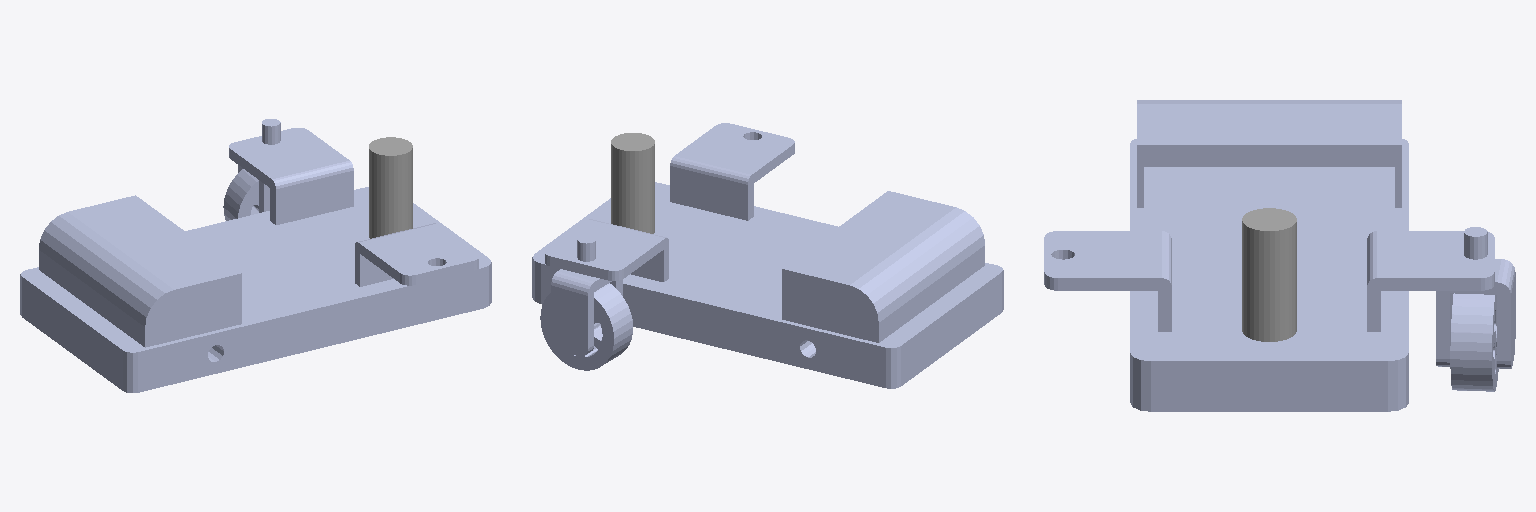
robot.urdf — Robot_Assembly:
<?xml version="1.0" encoding="utf-8"?>
<!-- This URDF was automatically created by SolidWorks to URDF Exporter! Originally created by [author] ([email redacted]) 
     Commit Version: 1.6.0-4-g7f85cfe  Build Version: 1.6.7995.38578
     For more information, please see http://wiki.ros.org/sw_urdf_exporter -->
<robot
  name="Robot_Assembly">
  <link
    name="base_link">
    <inertial>
      <origin
        xyz="-0.0177713241194038 -1.11022302462516E-16 0.120383167888541"
        rpy="0 0 0" />
      <mass
        value="57.7200890207757" />
      <inertia
        ixx="1.2991331467901"
        ixy="-3.51346855822824E-16"
        ixz="0.206009660815117"
        iyy="4.53263349681224"
        iyz="-1.51788304147971E-16"
        izz="5.55276261813866" />
    </inertial>
    <visual>
      <origin
        xyz="0 0 0"
        rpy="0 0 0" />
      <geometry>
        <mesh
          filename="package://Robot_Assembly/meshes/base_link.STL" />
      </geometry>
      <material
        name="">
        <color
          rgba="0.792156862745098 0.819607843137255 0.933333333333333 1" />
      </material>
    </visual>
    <collision>
      <origin
        xyz="0 0 0"
        rpy="0 0 0" />
      <geometry>
        <mesh
          filename="package://Robot_Assembly/meshes/base_link.STL" />
      </geometry>
    </collision>
  </link>
  <link
    name="rear_wheel_left">
    <inertial>
      <origin
        xyz="1.11022302462516E-16 0 -0.0418411207692297"
        rpy="0 0 0" />
      <mass
        value="2.25128553479309" />
      <inertia
        ixx="0.00778450520341826"
        ixy="-2.09752323828134E-18"
        ixz="1.54852475339965E-18"
        iyy="0.00778450520341825"
        iyz="6.92427076095309E-19"
        izz="0.0121750679482056" />
    </inertial>
    <visual>
      <origin
        xyz="0 0 0"
        rpy="0 0 0" />
      <geometry>
        <mesh
          filename="package://Robot_Assembly/meshes/rear_wheel_left.STL" />
      </geometry>
      <material
        name="">
        <color
          rgba="0.792156862745098 0.819607843137255 0.933333333333333 1" />
      </material>
    </visual>
    <collision>
      <origin
        xyz="0 0 0"
        rpy="0 0 0" />
      <geometry>
        <mesh
          filename="package://Robot_Assembly/meshes/rear_wheel_left.STL" />
      </geometry>
    </collision>
  </link>
  <joint
    name="rear_wheel_left_joint"
    type="continuous">
    <origin
      xyz="-0.254 0.33528 0.1016"
      rpy="1.5707963267949 0 3.14159265358979" />
    <parent
      link="base_link" />
    <child
      link="rear_wheel_left" />
    <axis
      xyz="0 0 -1" />
  </joint>
  <link
    name="rear_wheel_right">
    <inertial>
      <origin
        xyz="1.11022302462516E-16 0 -0.0418411207692296"
        rpy="0 0 0" />
      <mass
        value="2.25128553479309" />
      <inertia
        ixx="0.00778450520341824"
        ixy="-2.9356639939507E-18"
        ixz="2.06915499804332E-18"
        iyy="0.00778450520341824"
        iyz="-1.87290346737621E-18"
        izz="0.0121750679482056" />
    </inertial>
    <visual>
      <origin
        xyz="0 0 0"
        rpy="0 0 0" />
      <geometry>
        <mesh
          filename="package://Robot_Assembly/meshes/rear_wheel_right.STL" />
      </geometry>
      <material
        name="">
        <color
          rgba="0.792156862745098 0.819607843137255 0.933333333333333 1" />
      </material>
    </visual>
    <collision>
      <origin
        xyz="0 0 0"
        rpy="0 0 0" />
      <geometry>
        <mesh
          filename="package://Robot_Assembly/meshes/rear_wheel_right.STL" />
      </geometry>
    </collision>
  </link>
  <joint
    name="rear_wheel_right_joint"
    type="continuous">
    <origin
      xyz="-0.254 -0.33528 0.1016"
      rpy="1.5707963267949 0 0" />
    <parent
      link="base_link" />
    <child
      link="rear_wheel_right" />
    <axis
      xyz="0 0 1" />
  </joint>
  <link
    name="front_wheel_left_steering">
    <inertial>
      <origin
        xyz="-2.22044604925031E-16 -2.77555756156289E-17 -0.148810521697732"
        rpy="0 0 0" />
      <mass
        value="1.36260899137696" />
      <inertia
        ixx="0.00637222652336909"
        ixy="0.000170251792034192"
        ixz="-8.01290986783837E-18"
        iyy="0.00843770282289099"
        iyz="-1.46137293291981E-18"
        izz="0.00404982823146119" />
    </inertial>
    <visual>
      <origin
        xyz="0 0 0"
        rpy="0 0 0" />
      <geometry>
        <mesh
          filename="package://Robot_Assembly/meshes/front_wheel_left_steering.STL" />
      </geometry>
      <material
        name="">
        <color
          rgba="0.792156862745098 0.819607843137255 0.933333333333333 1" />
      </material>
    </visual>
    <collision>
      <origin
        xyz="0 0 0"
        rpy="0 0 0" />
      <geometry>
        <mesh
          filename="package://Robot_Assembly/meshes/front_wheel_left_steering.STL" />
      </geometry>
    </collision>
  </link>
  <joint
    name="front_wheel_left_steering_joint"
    type="revolute">
    <limit effort = "1000" lower = "-1.0" upper="1.0" velocity="2.0"/>
    <origin
      xyz="0.254 0.37592 0.30607"
      rpy="0 0 1.57079632679489" />
    <parent
      link="base_link" />
    <child
      link="front_wheel_left_steering" />
    <axis
      xyz="0 0 1" />
  </joint>
  <link
    name="front_wheel_left">
    <inertial>
      <origin
        xyz="0.00310902758929259 -2.1094237467878E-15 -0.0379729370400628"
        rpy="0 0 0" />
      <mass
        value="1.7786506153732" />
      <inertia
        ixx="0.00639043568186731"
        ixy="1.36807401510145E-18"
        ixz="-0.000377229508401982"
        iyy="0.00635955008173793"
        iyz="-3.19559257674839E-18"
        izz="0.0109669432168252" />
    </inertial>
    <visual>
      <origin
        xyz="0 0 0"
        rpy="0 0 0" />
      <geometry>
        <mesh
          filename="package://Robot_Assembly/meshes/front_wheel_left.STL" />
      </geometry>
      <material
        name="">
        <color
          rgba="0.792156862745098 0.819607843137255 0.933333333333333 1" />
      </material>
    </visual>
    <collision>
      <origin
        xyz="0 0 0"
        rpy="0 0 0" />
      <geometry>
        <mesh
          filename="package://Robot_Assembly/meshes/front_wheel_left.STL" />
      </geometry>
    </collision>
  </link>
  <joint
    name="front_wheel_left_joint"
    type="continuous">
    <origin
      xyz="0.0379729370400621 -0.00310902758929248 -0.208279999999998"
      rpy="1.5707963267949 0 1.5707963267949" />
    <parent
      link="front_wheel_left_steering" />
    <child
      link="front_wheel_left" />
    <axis
      xyz="-0.0816017740000148 0 0.996665014174798" />
  </joint>
  <link
    name="front_wheel_right_steering">
    <inertial>
      <origin
        xyz="-4.44089209850063E-16 -1.38777878078145E-17 -0.148810521697732"
        rpy="0 0 0" />
      <mass
        value="1.36260899137696" />
      <inertia
        ixx="0.00636320999468119"
        ixy="0.000101395012660662"
        ixz="-6.28964518379896E-18"
        iyy="0.0084467193515789"
        iyz="-3.04831628470101E-19"
        izz="0.00404982823146119" />
    </inertial>
    <visual>
      <origin
        xyz="0 0 0"
        rpy="0 0 0" />
      <geometry>
        <mesh
          filename="package://Robot_Assembly/meshes/front_wheel_right_steering.STL" />
      </geometry>
      <material
        name="">
        <color
          rgba="0.792156862745098 0.819607843137255 0.933333333333333 1" />
      </material>
    </visual>
    <collision>
      <origin
        xyz="0 0 0"
        rpy="0 0 0" />
      <geometry>
        <mesh
          filename="package://Robot_Assembly/meshes/front_wheel_right_steering.STL" />
      </geometry>
    </collision>
  </link>
  <joint
    name="front_wheel_right_steering_joint"
    type="revolute">
    <limit  effort = "1000"  lower = "-1.0" upper="1.0" velocity="2.0"/>
    <origin
      xyz="0.253999999999998 -0.375920000000001 0.30607"
      rpy="0 0 1.57079632679489" />
    <parent
      link="base_link" />
    <child
      link="front_wheel_right_steering" />
    <axis
      xyz="0 0 1" />
    <limit
      lower="0"
      upper="0"
      effort="0"
      velocity="0" />
  </joint>
  <link
    name="front_wheel_right">
    <inertial>
      <origin
        xyz="0.00184760846713564 0 -0.0380551749825457"
        rpy="0 0 0" />
      <mass
        value="1.7786506153732" />
      <inertia
        ixx="0.00637045762088019"
        ixy="2.0172867188637E-19"
        ixz="-0.000224662485624304"
        iyy="0.00635955008173793"
        iyz="-7.23550391436617E-19"
        izz="0.0109869212778124" />
    </inertial>
    <visual>
      <origin
        xyz="0 0 0"
        rpy="0 0 0" />
      <geometry>
        <mesh
          filename="package://Robot_Assembly/meshes/front_wheel_right.STL" />
      </geometry>
      <material
        name="">
        <color
          rgba="0.792156862745098 0.819607843137255 0.933333333333333 1" />
      </material>
    </visual>
    <collision>
      <origin
        xyz="0 0 0"
        rpy="0 0 0" />
      <geometry>
        <mesh
          filename="package://Robot_Assembly/meshes/front_wheel_right.STL" />
      </geometry>
    </collision>
  </link>
  <joint
    name="front_wheel_right_joint"
    type="continuous">
    <origin
      xyz="-0.0380551749825455 0.00184760846713616 -0.20828"
      rpy="1.57079632679489 0 -1.57079632679489" />
    <parent
      link="front_wheel_right_steering" />
    <child
      link="front_wheel_right" />
    <axis
      xyz="-0.0484936605547404 0 0.998823490355529" />
  </joint>
  <link name="base_lidar_link">
       <visual>
         <geometry>
           <cylinder length="0.25" radius="0.05"/>
         </geometry>
         <origin rpy="0 0 0" xyz="0.35 0 0.250383167888541"/>
       </visual>
  </link>
  <joint name="base_lidar_link_joint" type="fixed">
      <parent
        link="base_link" />
      <child
        link="base_lidar_link"/>
  </joint>
  <!--Defining transmissions..-->
  <!--Steering Transmissions..-->
  <transmission name="front_wheel_left_steering_trans">
   <type>transmission_interface/SimpleTransmission</type>
   <joint name="front_wheel_left_steering_joint">
   <hardwareInterface>hardware_interface/EffortJointInterface</hardwareInterface>
   </joint>
   <actuator name="front_wheel_left_steering_motor">
   <mechanicalReduction>50</mechanicalReduction>
   </actuator>
  </transmission>
  <transmission name="front_wheel_right_steering_trans">
   <type>transmission_interface/SimpleTransmission</type>
   <joint name="front_wheel_right_steering_joint">
   <hardwareInterface>hardware_interface/EffortJointInterface</hardwareInterface>
   </joint>
   <actuator name="front_wheel_right_steering_motor">
   <mechanicalReduction>50</mechanicalReduction>
   </actuator>
  </transmission>
  <!--Velocity transmissions..-->
  <!--Front Wheel transmissions..-->
  <transmission name="front_wheel_left_trans">
   <type>transmission_interface/SimpleTransmission</type>
   <joint name="front_wheel_left_joint">
   <hardwareInterface>hardware_interface/VelocityJointInterface</hardwareInterface>
   </joint>
   <actuator name="front_wheel_left_motor">
   <mechanicalReduction>50</mechanicalReduction>
   </actuator>
  </transmission>
  <transmission name="front_wheel_right_trans">
   <type>transmission_interface/SimpleTransmission</type>
   <joint name="front_wheel_right_joint">
   <hardwareInterface>hardware_interface/VelocityJointInterface</hardwareInterface>
   </joint>
   <actuator name="front_wheel_right_motor">
   <mechanicalReduction>50</mechanicalReduction>
   </actuator>
  </transmission>
  <!--Rear Wheel transmissions..-->
  <transmission name="rear_wheel_left_trans">
   <type>transmission_interface/SimpleTransmission</type>
   <joint name="rear_wheel_left_joint">
   <hardwareInterface>hardware_interface/VelocityJointInterface</hardwareInterface>
   </joint>
   <actuator name="rear_wheel_left_motor">
   <mechanicalReduction>50</mechanicalReduction>
   </actuator>
  </transmission>
  <transmission name="rear_wheel_right_trans">
   <type>transmission_interface/SimpleTransmission</type>
   <joint name="rear_wheel_right_joint">
   <hardwareInterface>hardware_interface/VelocityJointInterface</hardwareInterface>
   </joint>
   <actuator name="rear_wheel_right_motor">
   <mechanicalReduction>50</mechanicalReduction>
   </actuator>
  </transmission>
</robot>

--- Facts derived from the render (not from the file) ---
The picture shows the robot from 3 angles, left to right: view 1: azimuth 30°, elevation 25°; view 2: azimuth 150°, elevation 25°; view 3: azimuth 270°, elevation 25°; orthographic projection.
Model Robot_Assembly with 8 links and 7 joints (2 revolute, 4 continuous, 1 fixed), rooted at base_link, posed all joints at 0.
Visible links, largest first — view 1: base_link, base_lidar_link, front_wheel_left, front_wheel_left_steering; view 2: base_link, base_lidar_link, front_wheel_left_steering, front_wheel_left; view 3: base_link, base_lidar_link, front_wheel_left, front_wheel_left_steering.
Boxes of the visible links, bbox=[...] form: base_link: bbox=[20, 128, 491, 392]; base_lidar_link: bbox=[369, 137, 412, 238]; front_wheel_left: bbox=[223, 169, 258, 220]; front_wheel_left_steering: bbox=[238, 119, 280, 212]; base_link: bbox=[532, 123, 1003, 388]; base_lidar_link: bbox=[611, 133, 654, 233]; front_wheel_left_steering: bbox=[551, 236, 622, 356]; front_wheel_left: bbox=[540, 283, 632, 370]; base_link: bbox=[1044, 100, 1494, 411]; base_lidar_link: bbox=[1242, 208, 1296, 341]; front_wheel_left: bbox=[1450, 293, 1498, 391]; front_wheel_left_steering: bbox=[1436, 227, 1515, 368].
Size in the robot's own frame: 0.9652 by 0.8586 by 0.379 metres.
Meshes: 7 distinct files referenced, 3 mesh visuals loaded (3 binary STL); not drawn: 4 (reference not matched to a file when rendering).
